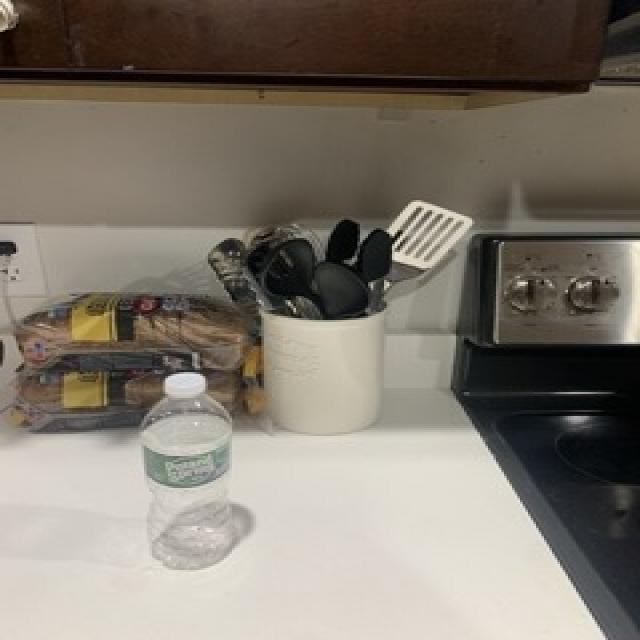water_bottle: (140, 370, 238, 573)
